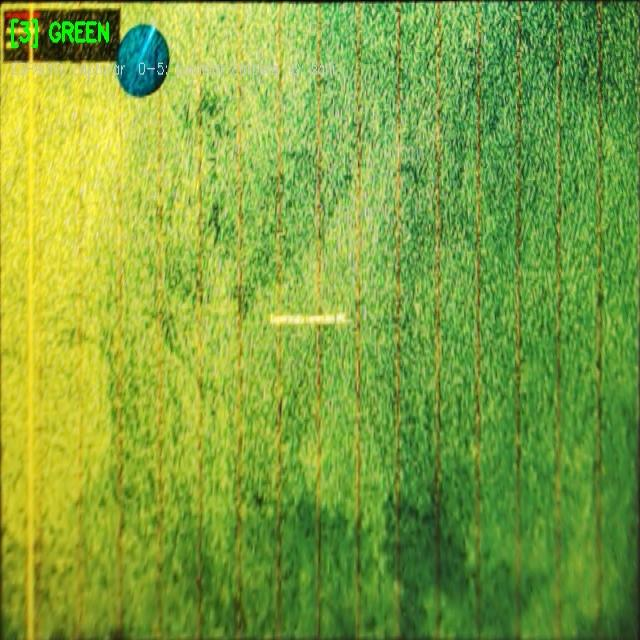green: (113, 21, 169, 101)
